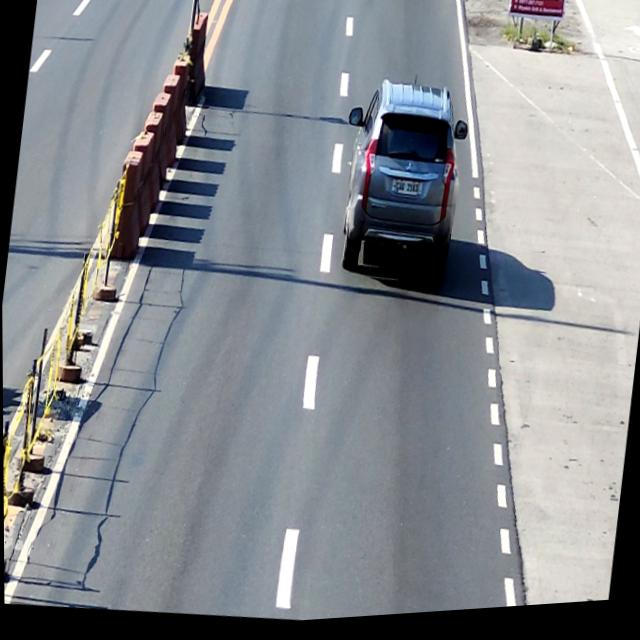Car: (329, 74, 475, 305)
License-Plate: (394, 183, 419, 203)
